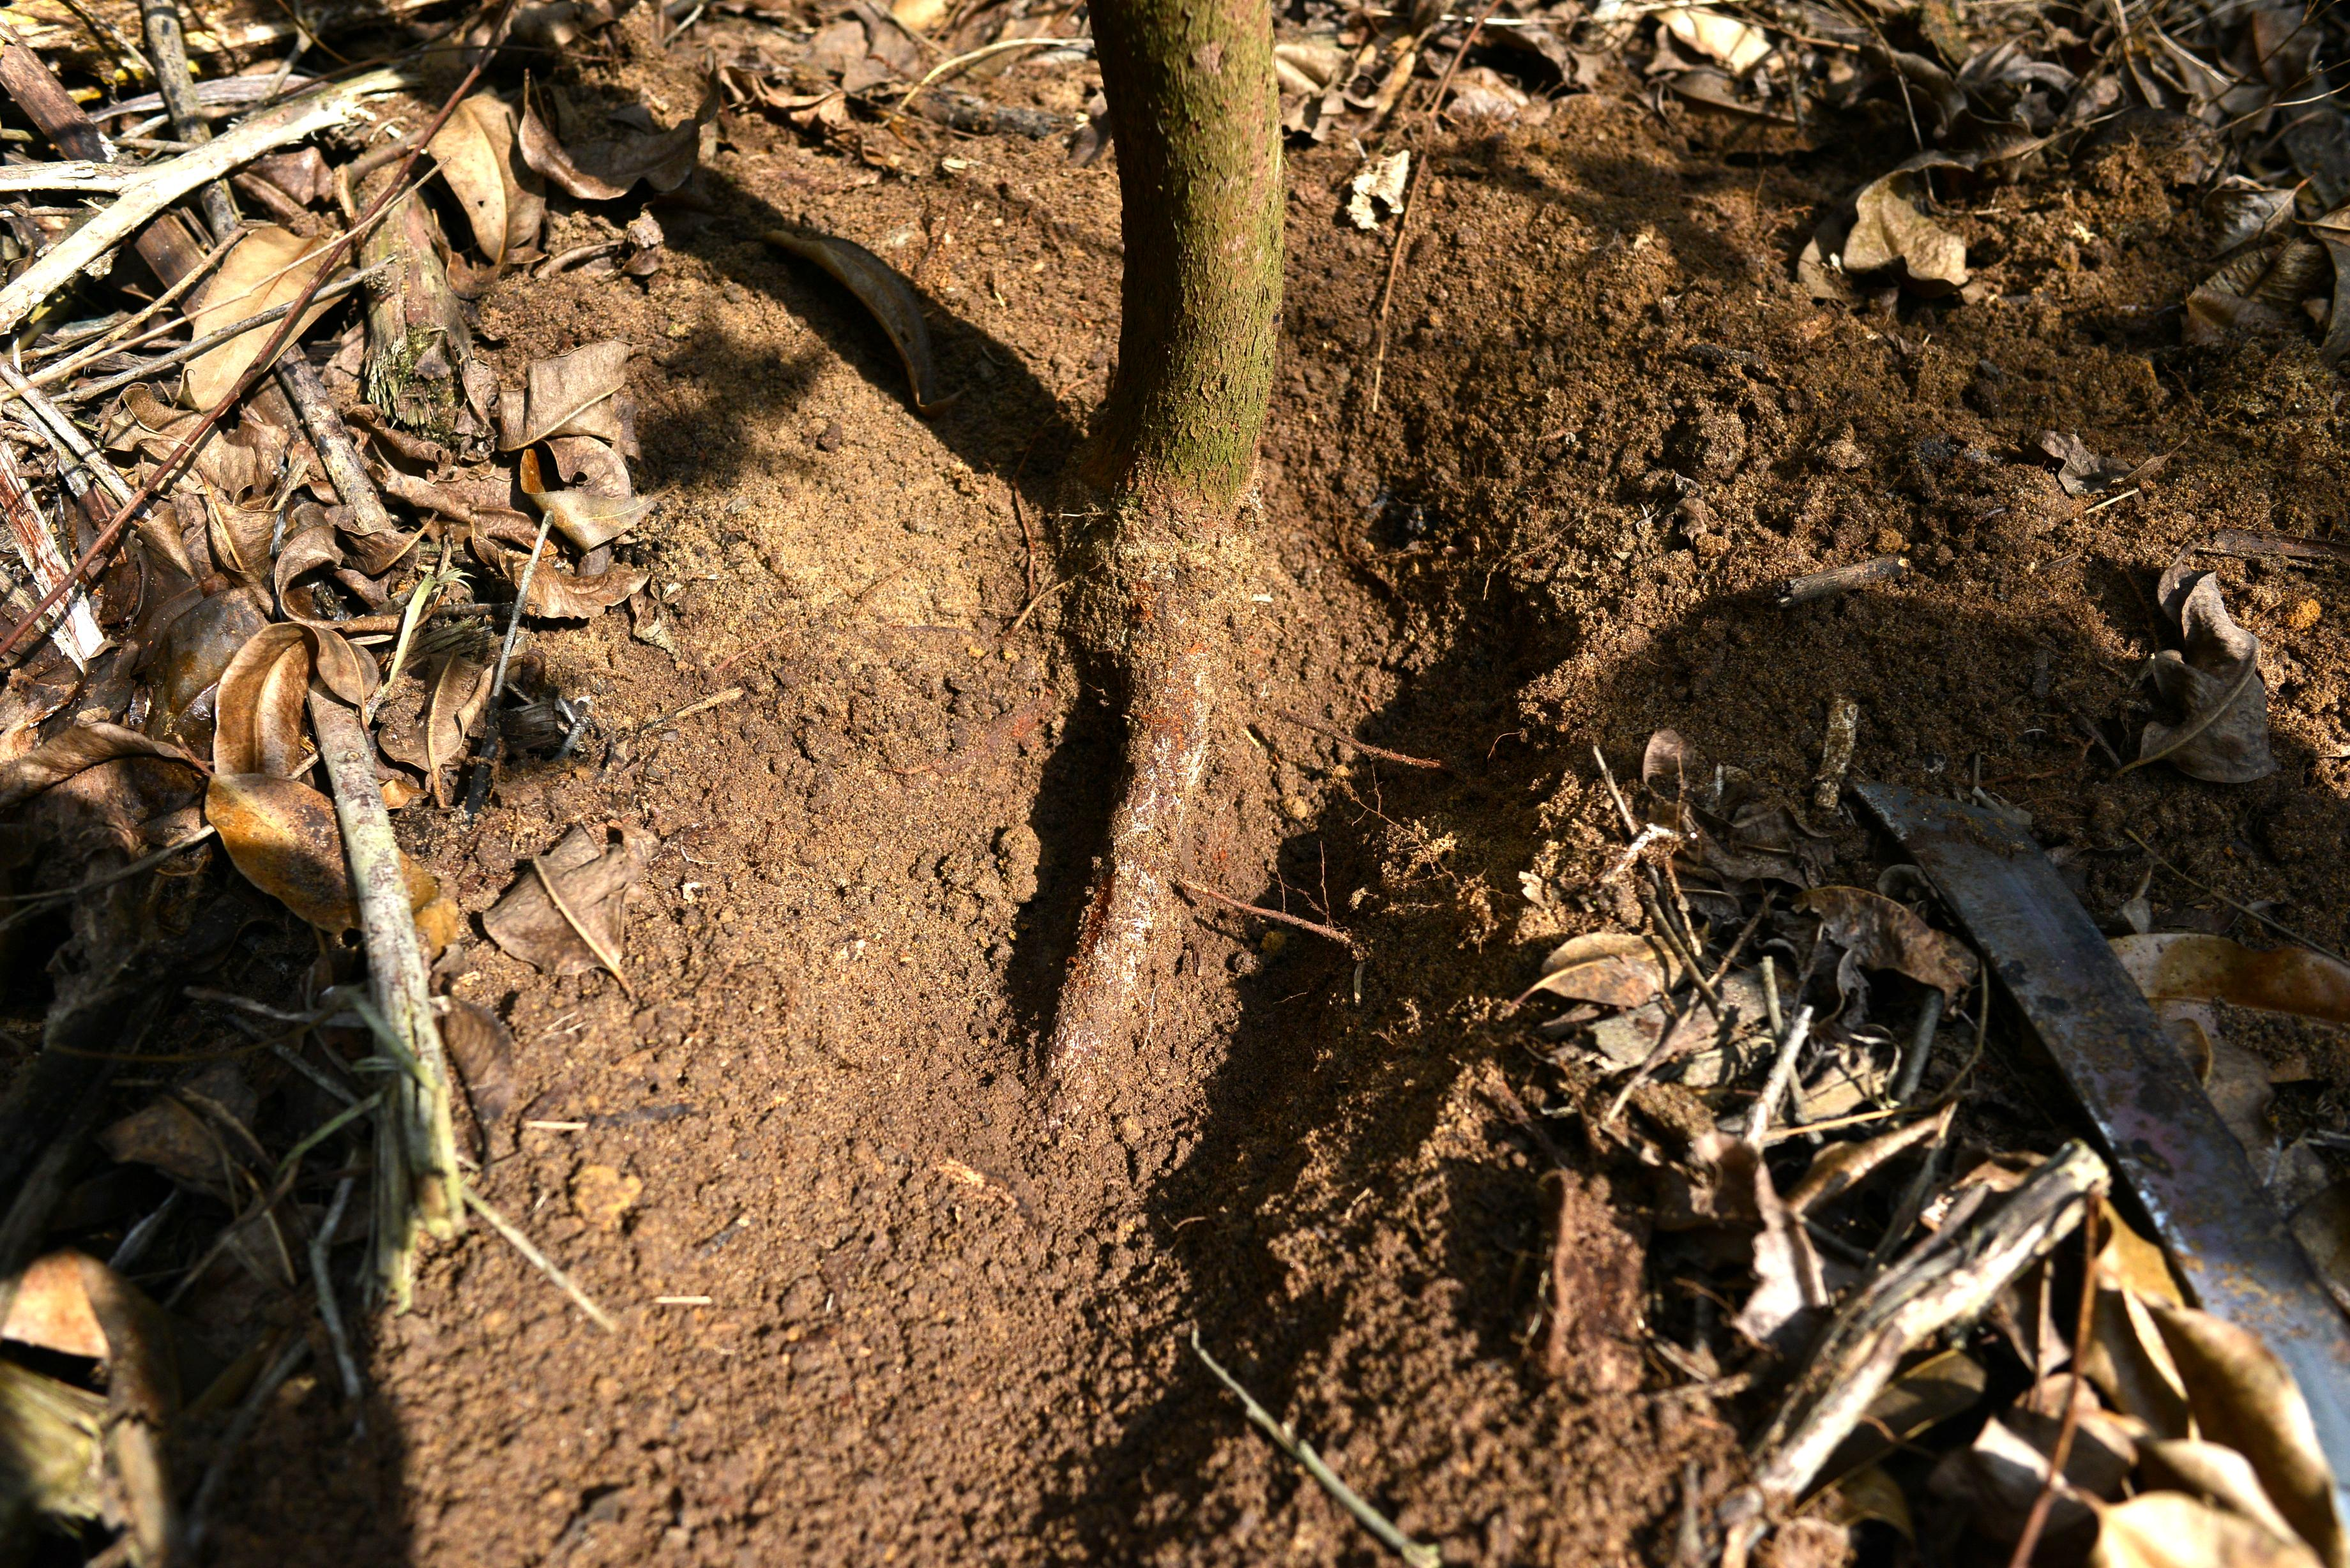Ganoderma - Mycelium: (1022, 619, 1272, 1122)
